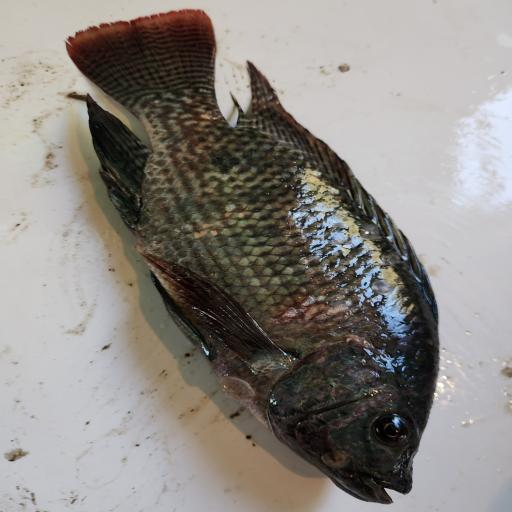Tilapia: (63, 9, 440, 505)
